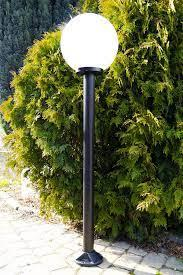Lamp: (56, 11, 118, 271)
